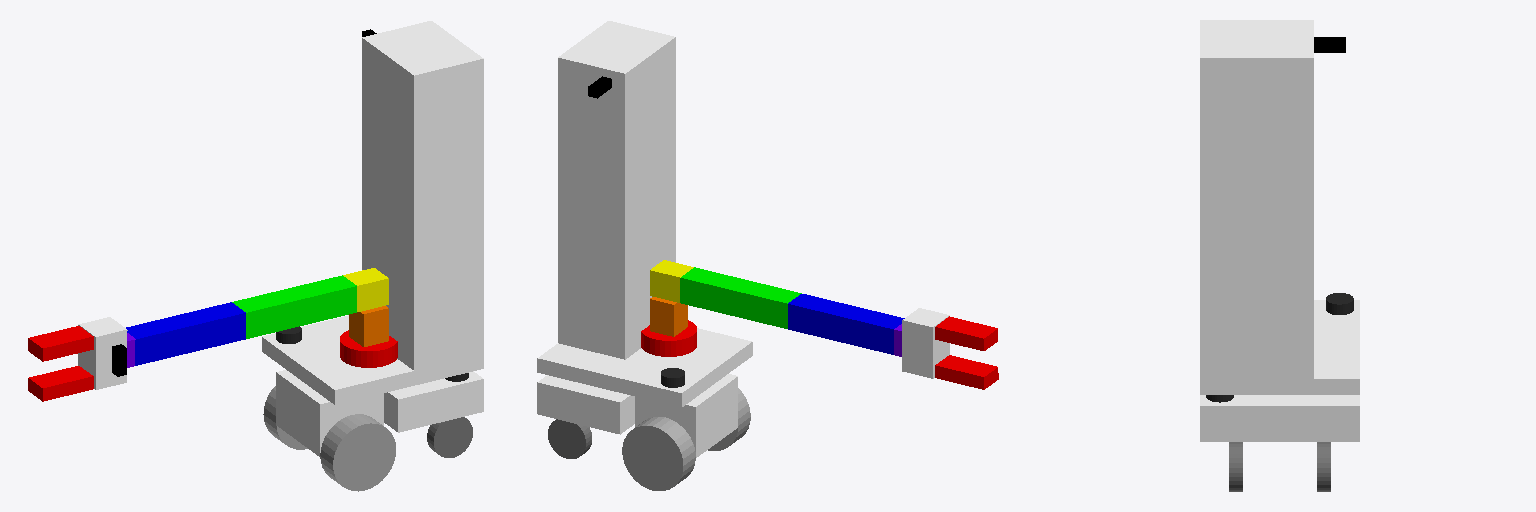
--- Facts derived from the render (not from the file) ---
Views: 3 orthographic renders of the robot side by side, from view 1: azimuth 30°, elevation 25°; view 2: azimuth 150°, elevation 25°; view 3: azimuth 270°, elevation 25°.
Model mbse with 24 links and 23 joints (7 revolute, 4 continuous, 3 prismatic, 9 fixed), rooted at mobilebaseI, posed all joints at 0.
Links seen in each view (by area): view 1: Torsol, mobilebaseIV, Revlink3, Revlink4, Wheel_Left, mobilebaseI, mobilebaseII, Hand, FingerLeft, FingerRight, CasterWheel_Left, LinearJoint (+3 smaller); view 2: Torsol, mobilebaseIV, Revlink3, Revlink4, Wheel_Right, mobilebaseII, mobilebaseI, Hand, FingerRight, FingerLeft, CasterWheel_Right, LinearJoint (+3 smaller); view 3: Torsol, mobilebaseII, mobilebaseIV, CasterWheel_Left, CasterWheel_Right, Lidar_Front.
Link boxes in pixels (left/top/right/bottom): Torsol: left=362, top=21, right=483, bottom=370; mobilebaseIV: left=262, top=315, right=483, bottom=404; Revlink3: left=232, top=275, right=356, bottom=338; Revlink4: left=126, top=302, right=245, bottom=365; Wheel_Left: left=320, top=414, right=395, bottom=491; mobilebaseI: left=276, top=370, right=383, bottom=456; mobilebaseII: left=384, top=371, right=483, bottom=432; Hand: left=78, top=317, right=127, bottom=389; FingerLeft: left=28, top=326, right=93, bottom=361; FingerRight: left=28, top=366, right=93, bottom=401; CasterWheel_Left: left=427, top=417, right=472, bottom=457; LinearJoint: left=340, top=330, right=397, bottom=367; Torsol: left=558, top=21, right=675, bottom=359; mobilebaseIV: left=537, top=328, right=752, bottom=407; Revlink3: left=680, top=267, right=801, bottom=328; Revlink4: left=788, top=294, right=904, bottom=354; Wheel_Right: left=622, top=417, right=695, bottom=490; mobilebaseII: left=537, top=375, right=634, bottom=434; mobilebaseI: left=635, top=374, right=737, bottom=457; Hand: left=902, top=308, right=949, bottom=378; FingerRight: left=935, top=355, right=998, bottom=389; FingerLeft: left=935, top=316, right=997, bottom=350; CasterWheel_Right: left=548, top=419, right=591, bottom=458; LinearJoint: left=641, top=320, right=696, bottom=356; Torsol: left=1200, top=20, right=1313, bottom=378; mobilebaseII: left=1200, top=395, right=1359, bottom=441; mobilebaseIV: left=1200, top=300, right=1359, bottom=394; CasterWheel_Left: left=1229, top=442, right=1242, bottom=491; CasterWheel_Right: left=1317, top=442, right=1330, bottom=491; Lidar_Front: left=1326, top=293, right=1353, bottom=314.
Bounding box of the posed robot: 1.34 × 0.4 × 1.22 m (x, y, z).
Geometry: primitives only (box / cylinder / sphere), no mesh files.

robot.urdf — mbse:
<!-- <?xml version="1.0"?> -->


<robot name="mbse">
    
    <link name="mobilebaseI">
        <visual name="mobilebaseI">
            <origin xyz="0.0 0.0 0.080" rpy="0.0 0.0 0.0"/>
            <geometry name = "mobilebaseI">
                <box size="0.200 0.240 0.160"/>
            </geometry>
            <material name="white">
                <color rgba="1.0 1.0 1.0 1.0"/>
            </material>
        </visual>
        <inertial>
            <mass value="2.0"/>
            <inertia ixx="5.0" ixy="0.0" ixz="0.0" 
                     iyy="7.0" iyz="0.0" izz="6.0"/>
        </inertial>
        <collision>
            <origin xyz="0.0 0.0 0.080" rpy="0.0 0.0 0.0"/>
            <geometry name = "mobilebaseI">
                <box size="0.200 0.240 0.160"/>
                
            </geometry>
        </collision>
    </link>

    <link name="mobilebaseII">
        <visual name="mobilebaseII">
            <origin xyz="0.0 0.0 0.00" rpy="0.0 0.0 0.0"/>
            <geometry name = "mobilebaseII">
                <box size="0.270 0.400 0.100"/>
            </geometry>
            <material name="white">
            </material>
        </visual>
        <inertial>
            <mass value="18.0"/>
            <inertia ixx="8.0" ixy="0.0" ixz="0.0" 
                     iyy="2.0" iyz="0.0" izz="1.0"/>
        </inertial>
        <collision>
            <origin xyz="0.0 0.0 0.00" rpy="0.0 0.0 0.0"/>
            <geometry name = "mobilebaseII">
                <box size="0.270 0.400 0.100"/>
                
            </geometry>
        </collision>
    </link>

    <joint name="MobileBaseWheel" type="fixed">
        <origin xyz="0.235 0.0 0.110" rpy="0.0 0.0 0.0"/>
        <parent link="mobilebaseI"/>
        <child link="mobilebaseII"/>
    </joint>

    <link name="Wheel_Right">
        <inertial>
            <mass value="1.5"/>
            <inertia ixx="8.0" ixy="0.0" ixz="0.0" 
                     iyy="4.0" iyz="0.0" izz="4.0"/>
        </inertial>
        <visual name="Wheel">
            <origin xyz="0.0 0.0 0.0" rpy="0.0 0.0 0.0"/>
            <geometry name = "wheel">
                <cylinder radius="0.100" length="0.070"/>
            </geometry>
            <material name="Gray1">
                <color rgba="0.7 0.7 0.7 1.0"/>
            </material>
        </visual>
        <collision>
            <origin xyz="0.0 0.0 0.0" rpy="0.0 0.0 0.0"/>
            <geometry name = "wheel">
                <cylinder radius="0.100" length="0.070"/>
                
            </geometry>
        </collision>
    </link>

    <joint name="WheelR" type="continuous">
        <origin xyz="0.0 0.155 0.005" rpy="1.57 0.0 0.0"/>
        <parent link="mobilebaseI"/>
        <child link="Wheel_Right"/>
        <axis xyz="0.0 0.0 1.0"/>
        <limit effort="1000.0" velocity="10.0"/>
    </joint>

    <link name="Wheel_Left">
        <inertial>
            <mass value="1.5"/>
            <inertia ixx="8.0" ixy="0.0" ixz="0.0" 
                     iyy="4.0" iyz="0.0" izz="4.0"/>
        </inertial>
        <visual name="Wheel">
            <origin xyz="0.0 0.0 0.0" rpy="0.0 0.0 0.0"/>
            <geometry name = "wheel">
                <cylinder radius="0.100" length="0.070"/>
            </geometry>
            <material name="Gray1">
                <color rgba="0.7 0.7 0.7 1.0"/>
            </material>
        </visual>
        <collision>
            <origin xyz="0.0 0.0 0.0" rpy="0.0 0.0 0.0"/>
            <geometry name = "wheel">
                <cylinder radius="0.100" length="0.070"/>
                
            </geometry>
        </collision>
    </link>

    <joint name="WheelL" type="continuous">
        <origin xyz="0.0 -0.155 0.005" rpy="1.57 0.0 0.0"/>
        <parent link="mobilebaseI"/>
        <child link="Wheel_Left"/>
        <axis xyz="0.0 0.0 1.0"/>
        <limit effort="1000.0" velocity="10.0"/>
    </joint>

    <link name="CasterCase_Left">
        <inertial>
            <mass value="0.06"/>
            <inertia ixx="0.2" ixy="0.0" ixz="0.0" 
                     iyy="0.6" iyz="-0.7" izz="0.2"/>
        </inertial>
        <visual name="CasterCase">
            <origin xyz="0.0 0.0 -0.005" rpy="0.0 0.0 0.0"/>
            <geometry name = "CasterC">
                <cylinder radius="0.025" length="0.010"/>
            </geometry>
            <material name="Gray1">
                <color rgba="0.7 0.7 0.7 1.0"/>
            </material>
        </visual>
        <collision>
            <origin xyz="0.0 0.0 -0.005" rpy="0.0 0.0 0.0"/>
            <geometry name = "CasterC">
                <cylinder radius="0.025" length="0.010"/>
                
            </geometry>
        </collision>
    </link>

    <joint name="CasterCL" type="fixed">
        <origin xyz="0.040 -0.110 -0.05" rpy="0.0 0.0 0.0"/>
        <parent link="mobilebaseII"/>
        <child link="CasterCase_Left"/>
        <axis xyz="0.0 0.0 1.0"/>
    </joint>

    <link name="CasterWheel_Left">
        <inertial>
            <mass value="0.3"/>
            <inertia ixx="0.6" ixy="0.0" ixz="0.0" 
                     iyy="0.3" iyz="0.0" izz="0.3"/>
        </inertial>
        <visual name="CasterWheel">
            <origin xyz="0.0 0.0 0.0" rpy="0.0 0.0 0.0"/>
            <geometry name = "Casterwheel">
                <cylinder radius="0.0625" length="0.036"/>
            </geometry>
            <material name="Gray2">
                <color rgba="0.5 0.5 0.5 1.0"/>
            </material>
        </visual>
        <collision>
            <origin xyz="0.0 0.0 0.0" rpy="0.0 0.0 0.0"/>
            <geometry name = "Casterwheel">
                <cylinder radius="0.0625" length="0.036"/>
                
            </geometry>
        </collision>
    </link>

    <joint name="CasterWheelL" type="continuous">
        <origin xyz="0.0405 0.0 -0.0925" rpy="1.57 0.0 0.0"/>
        <parent link="CasterCase_Left"/>
        <child link="CasterWheel_Left"/>
        <axis xyz="0.0 0.0 1.0"/>
    </joint>

    <link name="CasterCase_Right">
        <inertial>
            <mass value="0.06"/>
            <inertia ixx="0.2" ixy="0.0" ixz="0.0" 
                     iyy="0.6" iyz="-0.7" izz="0.2"/>
        </inertial>
        <visual name="CasterCase">
            <origin xyz="0.0 0.0 -0.005" rpy="0.0 0.0 0.0"/>
            <geometry name = "CasterC">
                <cylinder radius="0.025" length="0.010"/>
            </geometry>
            <material name="Gray1">
                <color rgba="0.7 0.7 0.7 1.0"/>
            </material>
        </visual>
        <collision>
            <origin xyz="0.0 0.0 -0.005" rpy="0.0 0.0 0.0"/>
            <geometry name = "CasterC">
                <cylinder radius="0.025" length="0.010"/>
                
            </geometry>
        </collision>
    </link>

    <joint name="CasterCR" type="fixed">
        <origin xyz="0.040 0.110 -0.05" rpy="0.0 0.0 0.0"/>
        <parent link="mobilebaseII"/>
        <child link="CasterCase_Right"/>
        <axis xyz="1.0 0.0 0.0"/>
    </joint>

    <link name="CasterWheel_Right">
        <inertial>
            <mass value="0.3"/>
            <inertia ixx="0.6" ixy="0.0" ixz="0.0" 
                     iyy="0.3" iyz="0.0" izz="0.3"/>
        </inertial>
        <visual name="CasterWheel">
            <origin xyz="0.0 0.0 0.0" rpy="0.0 0.0 0.0"/>
            <geometry name = "Casterwheel">
                <cylinder radius="0.0625" length="0.036"/>
            </geometry>
            <material name="Gray2">
                <color rgba="0.5 0.5 0.5 1.0"/>
            </material>
        </visual>
        <collision>
            <origin xyz="0.0 0.0 0.0" rpy="0.0 0.0 0.0"/>
            <geometry name = "Casterwheel">
                <cylinder radius="0.0625" length="0.036"/>
                 
            </geometry>
        </collision>
    </link>

    <joint name="CasterWheelR" type="continuous">
        <origin xyz="0.0405 0.0 -0.0925" rpy="1.57 0.0 0.0"/>
        <parent link="CasterCase_Right"/>
        <child link="CasterWheel_Right"/>
        <axis xyz="0.0 0.0 1.0"/>
    </joint>

    <link name="mobilebaseIII">
        <inertial>
            <mass value="10.0"/>
            <inertia ixx="0.6" ixy="0.0" ixz="0.0" 
                     iyy="0.1" iyz="0.0" izz="0.4"/>
        </inertial>
        <visual name = "mobilebaseIII">
            <origin xyz="0.0 0.0 0.0" rpy="0.0 0.0 0.0"/>
            <geometry name = "mobilebaseIII">
                <box size="0.235 0.180 0.030"/>
            </geometry >
            <material name="white"></material>
        </visual>
        <collision>
            <origin xyz="0.0 0.0 0.0" rpy="0.0 0.0 0.0"/>
            <geometry name = "mobilebaseIII">
                <box size="0.235 0.180 0.030"/>
                
            </geometry >
        </collision>
    </link>

    <joint name="MobileBaseLidar" type="fixed">     
        <origin xyz="-0.100 0.0 0.065" rpy="0.0 0.0 0.0"/>
        <parent link="mobilebaseII"/>
        <child link="mobilebaseIII"/>
        <axis xyz="0.0 0.0 1.0"/>
    </joint>

    <link name="mobilebaseIV">
        <inertial>
            <mass value="1.0"/>
            <inertia ixx="0.2" ixy="0.0" ixz="0.0" 
                     iyy="0.3" iyz="0.0" izz="0.1"/>
        </inertial>
        <visual name = "mobilebaseIII">
            <origin xyz="0.0 0.0 0.0" rpy="0.0 0.0 0.0"/>
            <geometry name = "mobilebaseIV">
                <box size="0.470 0.400 0.045"/>
            </geometry >
            <material name="white"></material>
        </visual>
        <collision>
            <origin xyz="0.0 0.0 0.0" rpy="0.0 0.0 0.0"/>
            <geometry name = "mobilebaseIV">
                <box size="0.470 0.400 0.045"/>
                
            </geometry >
        </collision>
    </link>

    <joint name="MobileBaseTorsol" type="fixed">
        <origin xyz="0.0 0.0 0.0375" rpy="0.0 0.0 0.0"/>
        <parent link="mobilebaseIII"/>
        <child link="mobilebaseIV"/>
    </joint>

    <link name="Lidar_Front">
        <inertial>
            <mass value="0.3"/>
            <inertia ixx="0.4" ixy="0.0" ixz="0.0" 
                     iyy="0.7" iyz="0.0" izz="0.4"/>
        </inertial>
        <visual name="Lidar_Front">
            <origin xyz="0.0 0.0 0.0" rpy="0.0 0.0 0.0"/>
            <geometry name = "Lidar_front">
                <cylinder radius="0.035" length="0.030"/>
            </geometry>
            <material name="Gray4">
                <color rgba="0.2 0.2 0.2 1.0"/>
            </material>
        </visual>
        <collision>
            <origin xyz="0.0 0.0 0.0" rpy="0.0 0.0 0.0"/>
            <geometry name = "Lidar_front">
                <cylinder radius="0.035" length="0.030"/>
            </geometry>
        </collision>
    </link>

    <joint name="LidarF" type="fixed">
        <origin xyz="-0.178 0.150 0.075" rpy="0.0 0.0 0.0"/>
        <parent link="mobilebaseIII"/>
        <child link="Lidar_Front"/>
        <axis xyz="1.0 0.0 0.0"/>
    </joint>

    <link name="Lidar_Back">
        <inertial>
            <mass value="0.3"/>
            <inertia ixx="0.4" ixy="0.0" ixz="0.0" 
                     iyy="0.7" iyz="0.0" izz="0.4"/>
        </inertial>
        <visual name="Lidar_Back">
            <origin xyz="0.0 0.0 0.0" rpy="0.0 0.0 0.0"/>
            <geometry name = "Lidar_back">
                <cylinder radius="0.035" length="0.030"/>
            </geometry>
            <material name="Gray4">
                <color rgba="0.2 0.2 0.2 1.0"/>
            </material>
        </visual>
        <collision>
            <origin xyz="0.0 0.0 0.0" rpy="0.0 0.0 0.0"/>
            <geometry name = "Lidar_back">
                <cylinder radius="0.035" length="0.030"/>
                
            </geometry>
        </collision>
    </link>

    <joint name="LidarB" type="fixed">
        <origin xyz="0.178 -0.150 0.0" rpy="0.0 0.0 0.0"/>
        <parent link="mobilebaseIII"/>
        <child link="Lidar_Back"/>
      
    </joint>

    <link name="Torsol">
        <inertial>
            <mass value="0.8"/>
            <inertia ixx="7.0" ixy="5.0" ixz="8.0" 
                     iyy="4.0" iyz="4.0" izz="7.0"/>
        </inertial>
        <visual name="Body">
            <origin xyz="0.0 0.0 0.445" rpy="0.0 0.0 0.0"/>
            <geometry name = "body">
                <box size="0.220 0.285 0.890"/>
            </geometry>
            <material name="white"></material>
        </visual>
        <collision>
            <origin xyz="0.0 0.0 0.445" rpy="0.0 0.0 0.0"/>
            <geometry name = "body">
                <box size="0.220 0.285 0.890"/>
                
            </geometry>
        </collision>
    </link>

    <joint name="BaseTorsol" type="fixed">
        <origin xyz="0.125 -0.0575 0.0225" rpy="0.0 0.0 0.0"/>
        <parent link="mobilebaseIV"/>
        <child link="Torsol"/>
    </joint>

    <link name="TorsolCamera">
        <inertial>
            <origin xyz="0.0 1.0 0.0" rpy="0.0 0.0 0.0"/>
            <mass value="0.2"/>
            <inertia ixx="0.6" ixy="0.0" ixz="0.0" 
                     iyy="0.1" iyz="0.0" izz="0.1"/>
        </inertial>
        <visual>
            <origin xyz="0.0 0.0 0.0" rpy="0.0 0.0 0.0"/>
            <geometry name = "Camera">
                <box size="0.03 0.08 0.03"/>
            </geometry>
            <material name="black">
                <color rgba="0.0 0.0 0.0 0.5"/>
            </material>
        </visual>
        <collision>
            <origin xyz="0.0 1.0 0.0" rpy="0.0 0.0 0.0"/>
            <geometry name = "Camera">
                <box size="0.03 0.08 0.03"/>
            </geometry>
        </collision>
    </link>

    <joint name="BodyCam" type="revolute">
        <origin xyz="-0.05 0.182 0.85" rpy="0.0 0.0 0.0"/>
        <parent link="Torsol"/>
        <child link="TorsolCamera"/>
        <axis xyz="0.0 1.0 0.0"/>
        <limit effort="1000.0" lower="-1.5" upper="1.5" velocity="0.5"/>
       
    </joint>



    <link name="LinearJoint">
        <inertial>
            <mass value="0.5"/>
            <inertia ixx="7.0" ixy="-5.0" ixz="8.0" 
                     iyy="4.0" iyz="4.0" izz="7.0"/>
        </inertial>
        <visual>
            <origin xyz="0.0 0.0 0.0" rpy="0.0 0.0 0.0"/>
            <geometry name = "LinearJ">
                <cylinder radius="0.080" length="0.050"/>
            </geometry>
            <material name="Red">
                <color rgba="1.0 0.0 0.0 1.0"/>
            </material>
        </visual>
        <collision>
            <origin xyz="0.0 0.0 0.0" rpy="0.0 0.0 0.0"/>
            <geometry name = "LinearJ">
                <cylinder radius="0.080" length="0.050"/>
                
            </geometry>
        </collision>
    </link>

    <joint name="LinJ" type="prismatic">
        <origin xyz="-0.17 0.0 0.0275" rpy="0.0 0.0 0.0"/>
        <parent link="Torsol"/>
        <child link="LinearJoint"/>
        <axis xyz="0.0 0.0 1.0"/>
        <limit lower="0.0" upper="0.650" effort="1000.0" velocity="10.0"/>
    </joint>

    <link name="Revlink1">
        <inertial>
            <mass value="0.1"/>
            <inertia ixx="0.4" ixy="0.0" ixz="0.0" 
                     iyy="0.4" iyz="0.7" izz="0.1"/>
        </inertial>
        <visual >
            <origin xyz="0.0 0.0 -0.050" rpy="0.0 0.0 0.0"/>
            <geometry name="RevL1">
                <box size="0.080 0.080 0.100"/>
            </geometry>
            <material name="Orange">
                <color rgba="1.0 0.5 0.0 1.0"/>
            </material>
        </visual>
        <collision>
            <origin xyz="0.0 0.0 -0.050" rpy="0.0 0.0 0.0"/>
            <geometry name="RevL1">
                <box size="0.080 0.080 0.100"/>
               
            </geometry>
        </collision>
    </link>

    <joint name="RevJ1" type="revolute">
        <origin xyz="0.0 0.0 0.125" rpy="0.0 0.0 3.14"/>
        <parent link="LinearJoint"/>
        <child link="Revlink1"/>
        <axis xyz="0.0 0.0 1.0"/>
        <limit effort="1000.0" lower="-1.3" upper="1.3" velocity="0.5"/>
        
    </joint>

    <link name="Revlink2">
        <inertial>
            <mass value="0.1"/>
            <inertia ixx="0.9" ixy="0.0" ixz="0.0" 
                     iyy="0.4" iyz="0.0" izz="0.9"/>
        </inertial>
        <visual >
            <origin xyz="0.0 0.0 -0.050" rpy="0.0 0.0 0.0"/>
            <geometry name="RevL2">
                <box size="0.080 0.080 0.100"/>
            </geometry>
            <material name="Yellow">
                <color rgba="1.0 1.0 0.0 1.0"/>
            </material>
        </visual>
        <collision>
            <origin xyz="0.0 0.0 -0.050" rpy="0.0 0.0 0.0"/>
            <geometry name="RevL2">
                <box size="0.080 0.080 0.100"/>
                
            </geometry>
        </collision>
    </link>

    <joint name="RevJ2" type="revolute">
        <origin xyz="0.06 0.0 0.05" rpy="0.0 1.57 0.0"/>
        <parent link="Revlink1"/>
        <child link="Revlink2"/>
        <axis xyz="0.0 0.0 1.0"/>
        <limit effort="1000.0" lower="-1.5" upper="1.5" velocity="0.5"/>
       
    </joint>

    <link name="Revlink3">
        <inertial>
            <mass value="0.1"/>
            <inertia ixx="0.9" ixy="0.0" ixz="0.0" 
                     iyy="0.1" iyz="0.5" izz="0.8"/>
        </inertial>
        <visual >
            <origin xyz="-0.175 0.0 0.0" rpy="0.0 1.57 0.0"/>
            <geometry name="RevL3">
                <box size="0.080 0.080 0.350"/>
            </geometry>
            <material name="Green">
                <color rgba="0.0 1.0 0.0 1.0"/>
            </material>
        </visual>
        <collision>
            <origin xyz="-0.175 0.0 0.0" rpy="0.0 1.57 0.0"/>
            <geometry name="RevL3">
                <box size="0.080 0.080 0.350"/>
            </geometry>
        </collision>
    </link>

    <joint name="RevJ3" type="revolute">
        <origin xyz="0.0 0.0 0.0" rpy="1.57 1.57 0.0"/>
        <parent link="Revlink2"/>
        <child link="Revlink3"/>
        <axis xyz="0.0 0.0 1.0"/>
        <limit effort="1000.0" lower="-1.2" upper="2.0" velocity="0.5"/>
      
    </joint>

    <link name="Revlink4">
        <inertial>
            <mass value="0.1"/>
            <inertia ixx="0.9" ixy="0.0" ixz="0.0" 
                     iyy="0.1" iyz="0.5" izz="0.8"/>
        </inertial>
        <visual >
            <origin xyz="-0.175 0.0 0.0" rpy="0.0 1.57 0.0"/>
            <geometry name="RevL4">
                <box size="0.080 0.080 0.350"/>
            </geometry>
            <material name="Blue">
                <color rgba="0.0 0.0 1.0 1.0"/>
            </material>
        </visual>
        <collision>
            <origin xyz="-0.175 0.0 0.0" rpy="0.0 1.57 0.0"/>
            <geometry name="RevL4">
                <box size="0.080 0.080 0.350"/>
                
            </geometry>
        </collision>
    </link>

    <joint name="RevJ4" type="revolute">
        <origin xyz="-0.350 0.0 0.0" rpy="0.0 0.0 0.0"/>
        <parent link="Revlink3"/>
        <child link="Revlink4"/>
        <axis xyz="0.0 0.0 1.0"/>
        <limit effort="1000.0" lower="-1.9" upper="1.9" velocity="0.5"/>
      
    </joint>

    <link name="Revlink5">
        <inertial>
            <mass value="0.1"/>
            <inertia ixx="0.1" ixy="0.0" ixz="0.0" 
                     iyy="0.1" iyz="0.0" izz="0.1"/>
        </inertial>
        <visual >
            <origin xyz="-0.04 0.0 0.0" rpy="0.0 1.57 0.0"/>
            <geometry name="RevL5">
                <box size="0.080 0.080 0.050"/>
            </geometry>
            <material name="Purple">
                <color rgba="0.5 0.0 1.0 1.0"/>
            </material>
        </visual>
        <collision>
            <origin xyz="-0.04 0.0 0.0" rpy="0.0 1.57 0.0"/>
            <geometry name="RevL5">
                <box size="0.080 0.080 0.050"/>
                
            </geometry>
        </collision>
    </link>

    <joint name="RevJ5" type="revolute">
        <origin xyz="-0.331 0.0 -0.0" rpy="0.0 0.0 0.0"/>
        <parent link="Revlink4"/>
        <child link="Revlink5"/>
        <axis xyz="0.0 0.0 1.0"/>
        <limit effort="1000.0" lower="-3.14" upper="3.14" velocity="0.5"/>
    </joint>

    <link name="Hand">
        <inertial>
            <mass value="0.05"/>
            <inertia ixx="0.4" ixy="0.0" ixz="0.0" 
                     iyy="0.4" iyz="0.0" izz="0.4"/>
        </inertial>
        <visual >
            <origin xyz="-0.0 0.0 0.0475" rpy="0.0 1.57 0.0"/>
            <geometry name="Hand">
                <box size="0.100 0.160 0.095"/>
            </geometry>
            <material name="white"></material>
        </visual>
        <collision>
            <origin xyz="-0.0 0.0 0.0475" rpy="0.0 1.57 0.0"/>
            <geometry name="Hand">
                <box size="0.100 0.160 0.095"/>
                
            </geometry>
        </collision>
    </link>

    <joint name="HandGripper" type="revolute">
        <origin xyz="-0.05 -0.0 -0.0" rpy="0.0 -1.57 0.0"/>
        <parent link="Revlink5"/>
        <child link="Hand"/>
        <axis xyz="0.0 0.0 1.0"/>
        <limit effort="1000.0" lower="-3.14" upper="3.14" velocity="0.5"/>
        
    </joint>

    <link name="FingerLeft">
        <inertial>
            <mass value="0.05"/>
            <inertia ixx="0.5" ixy="0.0" ixz="0.0" 
                     iyy="0.4" iyz="0.0" izz="0.5"/>
        </inertial>
        <visual>
            <origin xyz = "-0.080 0.0 0.0" rpy="0.0 0.0 0.0"/>
            <geometry name="FingerL">
                <box size="0.160 0.040 0.080"/>
            </geometry>
            <material name="Red"></material>
        </visual>
        <collision>
            <origin xyz = "-0.080 0.0 0.0" rpy="0.0 0.0 0.0"/>
            <geometry name="FingerL">
                <box size="0.160 0.040 0.080"/>
                
            </geometry>
        </collision>
    </link>

    <joint name="FingerL" type="prismatic">
        <origin xyz="-0.0 -0.06 0.1" rpy="0.0 1.57 0.0"/>
        <parent link="Hand"/>
        <child link="FingerLeft"/>
        <axis xyz="0.0 0.1 0.0"/>
        <limit effort="1000.0" lower="-0.02" upper="0.1" velocity="0.5"/>
    </joint>

    <link name="FingerRight">
        <inertial>
            <mass value="0.05"/>
            <inertia ixx="0.5" ixy="0.0" ixz="0.0" 
                     iyy="0.4" iyz="0.0" izz="0.5"/>
        </inertial>
        <visual>
            <origin xyz = "-0.080 0.0 0.0" rpy="0.0 0.0 0.0"/>
            <geometry name="FingerR">
                <box size="0.160 0.040 0.080"/>
            </geometry>
            <material name="Red"></material>
        </visual>
        <collision>
            <origin xyz = "-0.080 0.0 0.0" rpy="0.0 0.0 0.0"/>
            <geometry name="FingerR">
                <box size="0.160 0.040 0.080"/>
                
            </geometry>
        </collision>
    </link>

    <joint name="FingerR" type="prismatic">
        <origin xyz="-0.0 0.06 0.1" rpy="0.0 1.57 0.0"/>
        <parent link="Hand"/>
        <child link="FingerRight"/>
        <axis xyz="0.0 1.0 0.0"/>
        <limit effort="1000.0" lower="-0.1" upper="0.02" velocity="0.5"/>
    </joint>

    <link name="HandCamera">
        <inertial>
            <mass value="0.2"/>
            <inertia ixx="0.6" ixy="0.0" ixz="0.0" 
                     iyy="0.1" iyz="0.0" izz="0.1"/>
        </inertial>
        <visual name="Camera">
            <origin xyz="0.0 0.0 0.0" rpy="0.0 0.0 0.0"/>
            <geometry name = "Camera">
                <box size="0.03 0.08 0.03"/>
            </geometry>
            <material name="black">
                <color rgba="0.0 0.0 0.0 0.5"/>
            </material>
        </visual>
        <collision>
            <origin xyz="0.0 0.0 0.0" rpy="0.0 0.0 0.0"/>
            <geometry name = "Camera">
                <box size="0.03 0.08 0.03"/>
                
            </geometry>
        </collision>
    </link>

    <joint name="HandCam" type="fixed">
        <origin xyz="-0.0625 0.0 0.03" rpy="0.0 0.0 0.0"/>
        <parent link="Hand"/>
        <child link="HandCamera"/>
    </joint> 

</robot>
